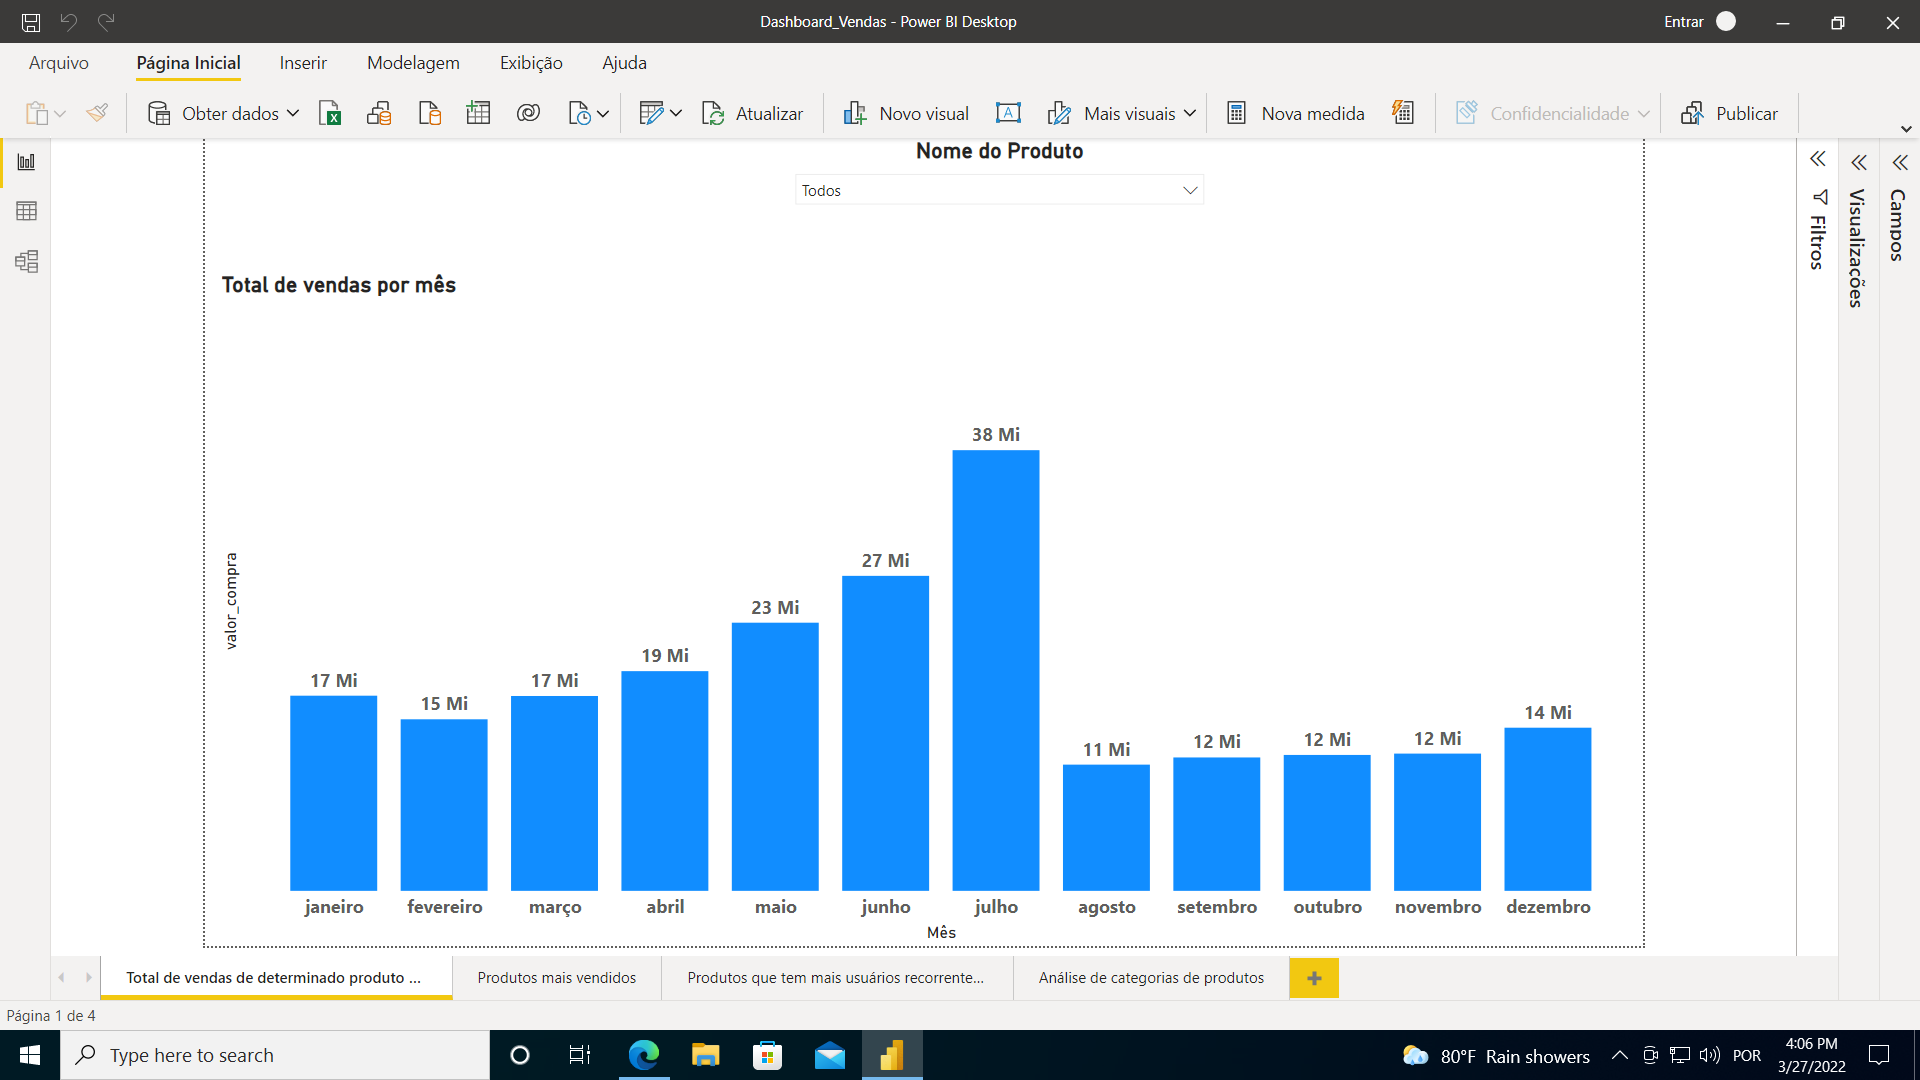

What the dashboard file says about the page in this screenshot:
{"tool":"powerbi","page":{"name":"Total de vendas de determinado produto por mês","canvas":[1280,720],"ordinal":0},"visuals":[{"type":"slicer","title":"Nome do Produto","fields":{"Values":["produtos_dataset.nome_produto"]},"box":[515,0,384.7,108.5],"z":0},{"type":"columnChart","title":"Total de vendas por mês","fields":{"Category":["vendas_dataset.data_venda.Variation.Hierarquia de datas.Mês"],"Y":["Sum(vendas_dataset.valor_compra)"]},"box":[9.6,119.4,1269.9,600.6],"z":1000}]}

Visuals, with their boxes on the page's 1280x720 design canvas (x1, y1, x2, y2). These are canvas units, not pixel positions in the 1920x1080 screenshot, which may show the page scaled, cropped or inside an application window:
"Nome do Produto" slicer: bbox=(515, 0, 900, 108)
"Total de vendas por mês" columnChart: bbox=(10, 119, 1280, 720)
